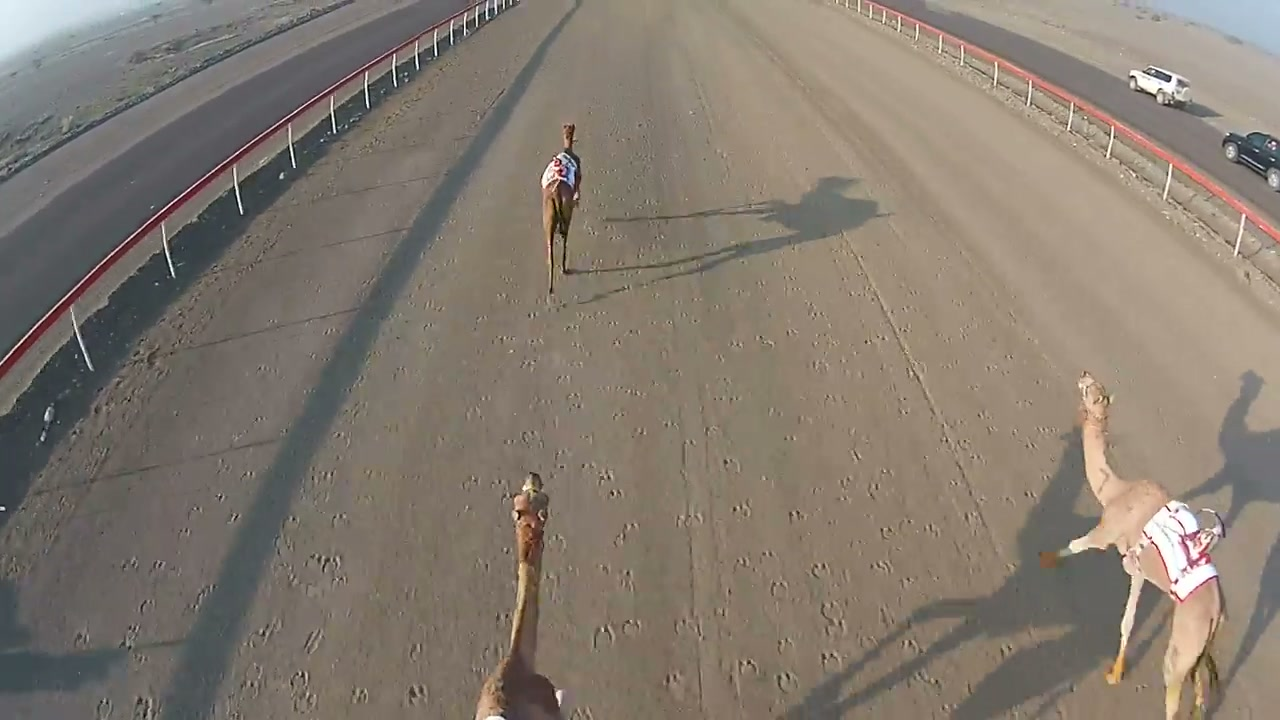animal_footprint: (633, 324, 966, 715), (60, 355, 391, 719), (411, 276, 651, 655)
